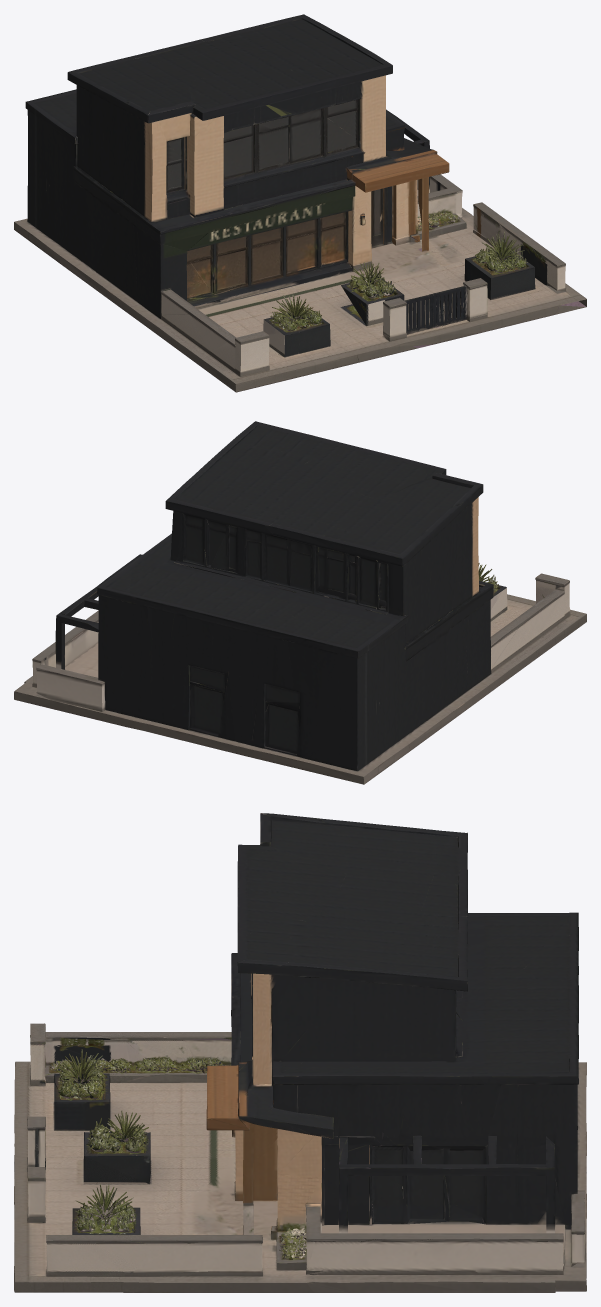
The model's file is building_restaurant.glb.
3 views of the same model, one above another, from view 1: azimuth 30°, elevation 25°; view 2: azimuth 150°, elevation 25°; view 3: azimuth 270°, elevation 25° (orthographic). The views are drawn at different scales.
Parts seen in each view (by area): view 1: output_unwrapped; view 2: output_unwrapped; view 3: output_unwrapped.
Part boxes in pixels (<box>): output_unwrapped: <box>14,14,586,392</box>; output_unwrapped: <box>14,421,586,784</box>; output_unwrapped: <box>14,813,586,1292</box>.
Size of the model in its own units: 1.82 by 1.02 by 2.
1 material, 1 textured.
